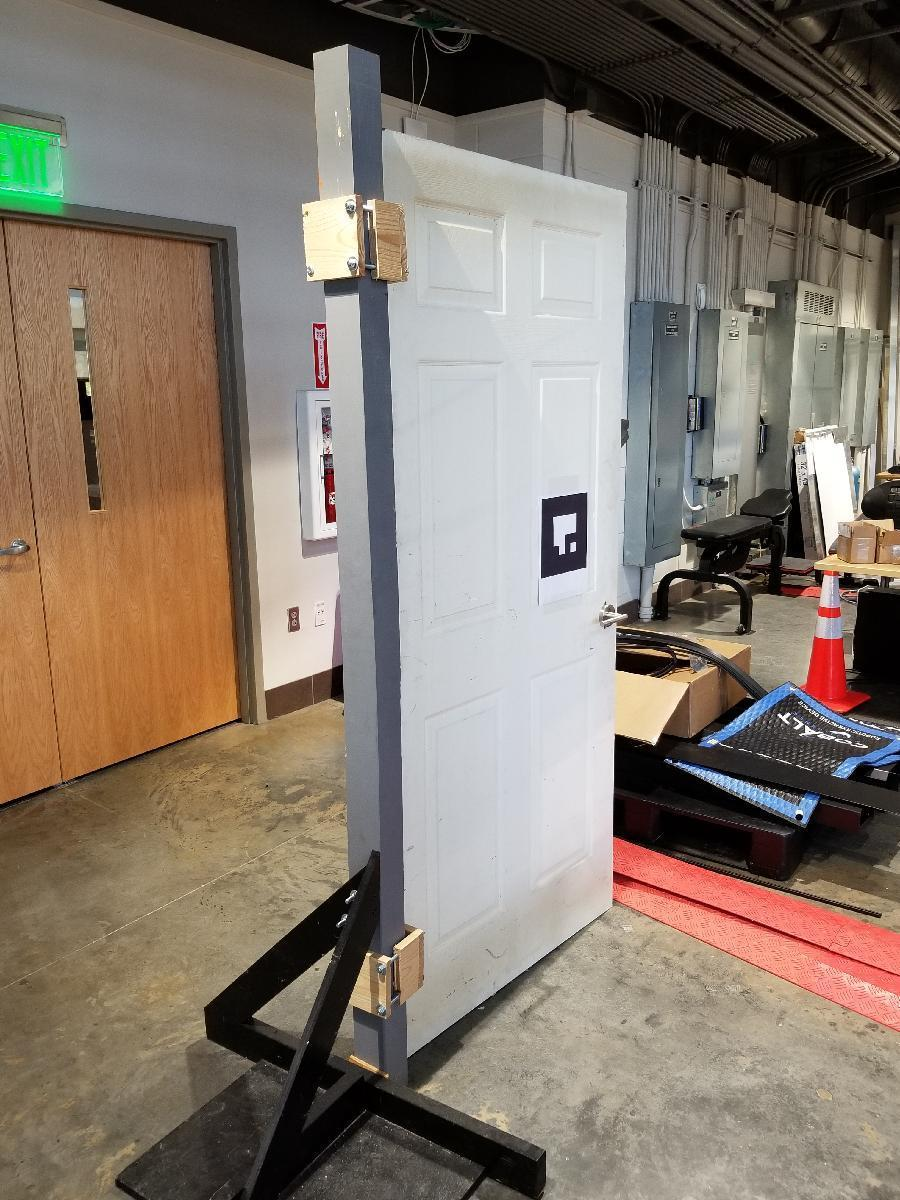door: (384, 131, 630, 1000), (26, 226, 246, 734)
handle: (595, 598, 630, 633), (1, 531, 33, 563)
